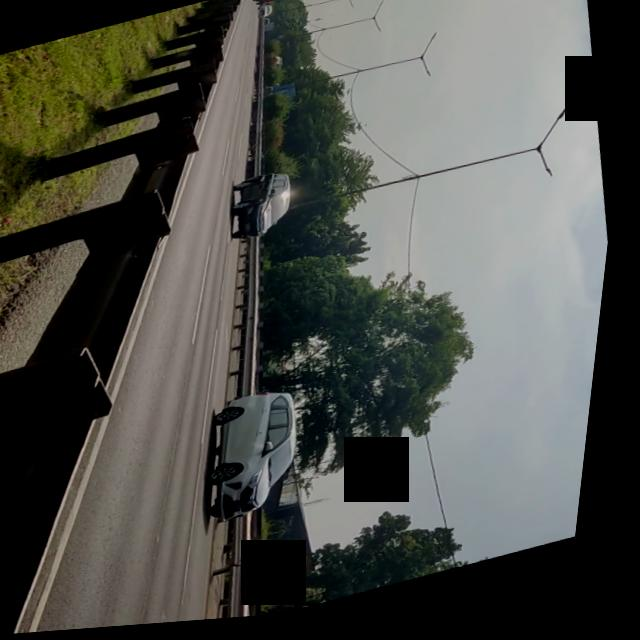Golongan I: (197, 384, 338, 534), (220, 167, 315, 253)
